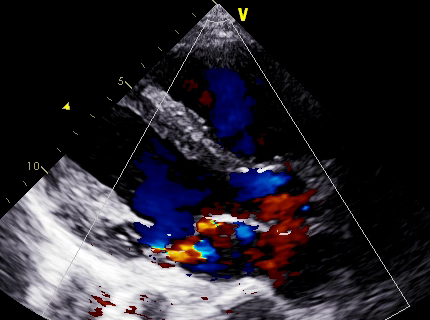MR: (167, 213, 226, 275)
